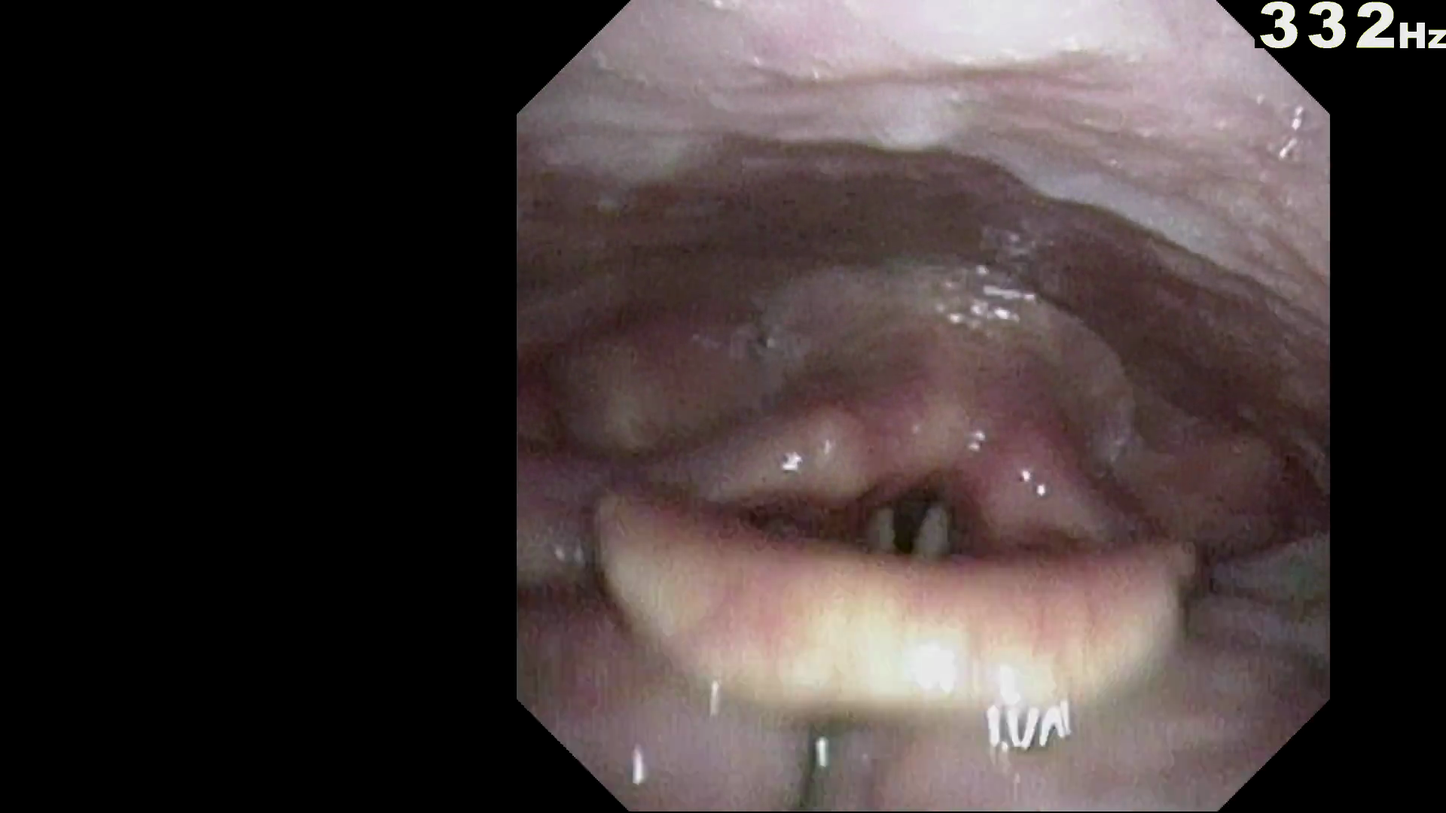epiglottis: (628, 556, 1221, 788)
trachea: (854, 436, 1003, 616)
